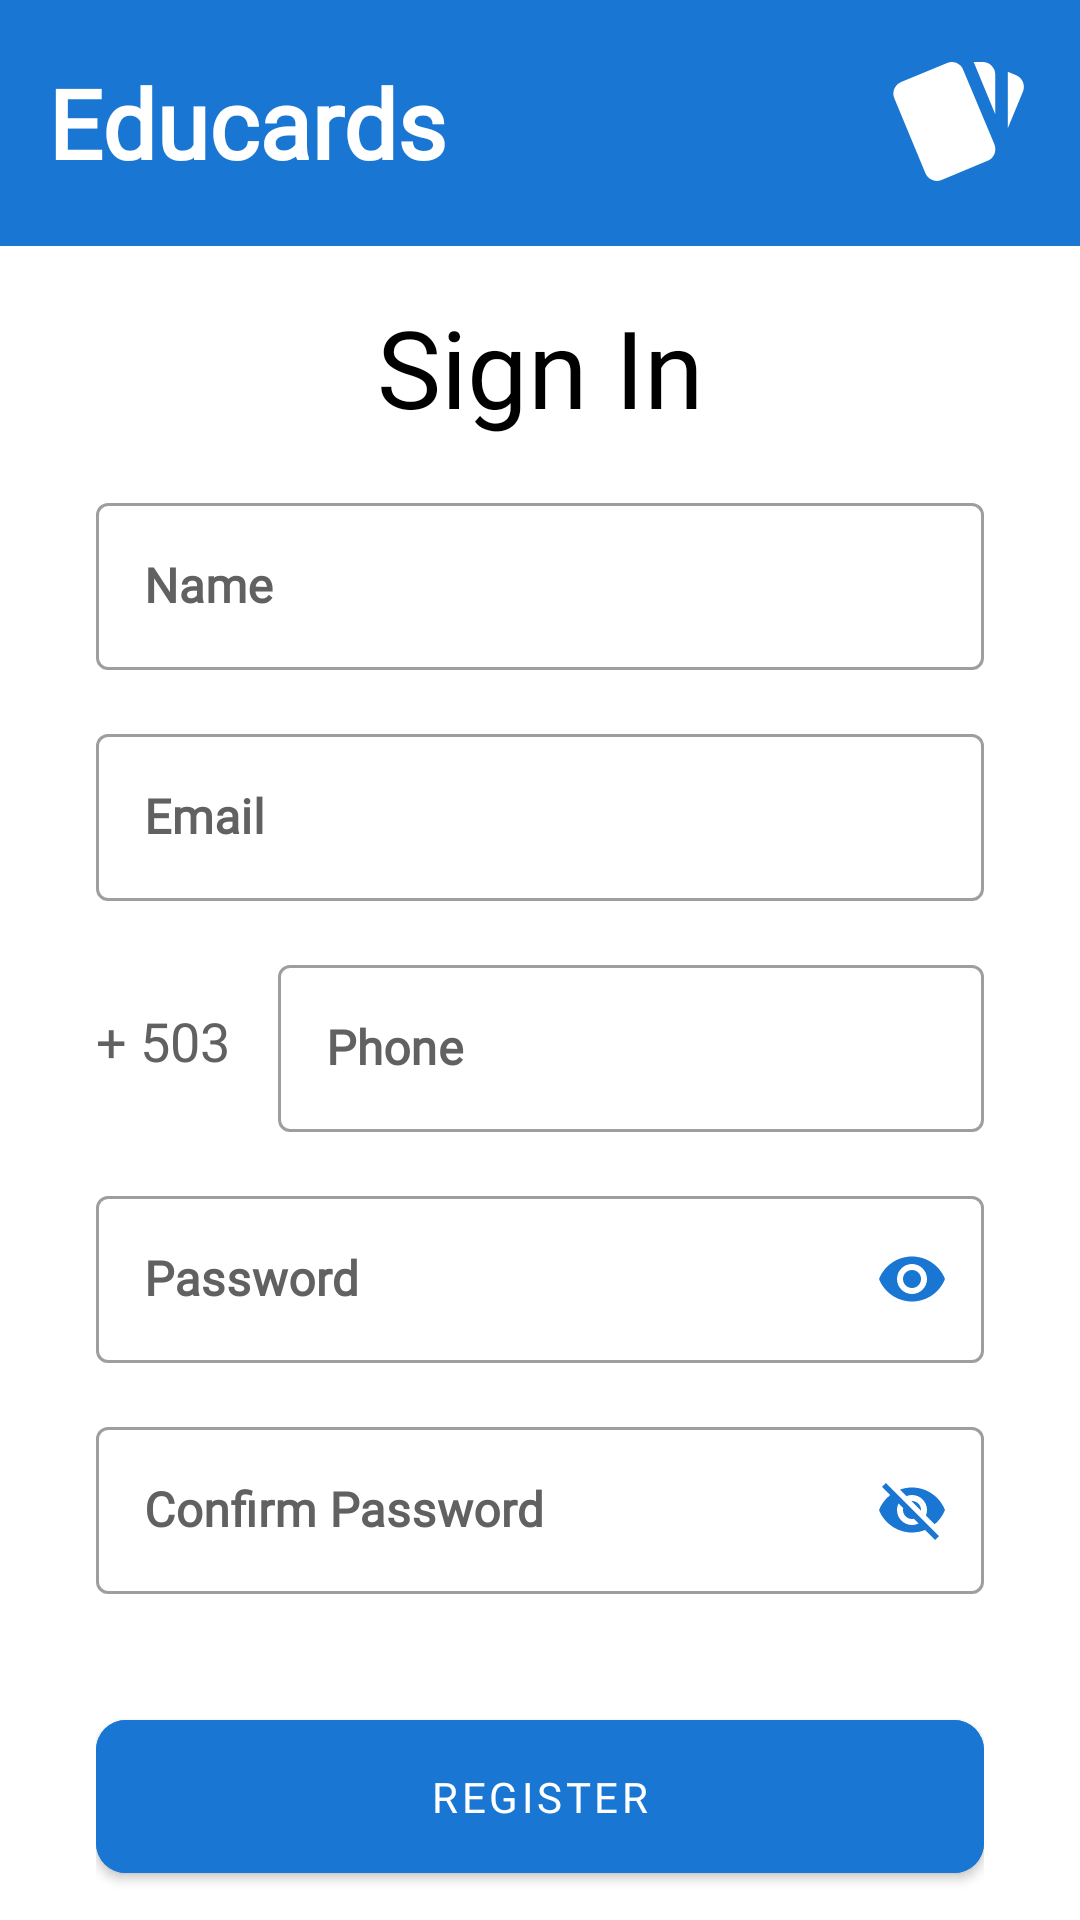

Screen size 1080 x 1920. Icon name, then its box in pixels as bbox=[x1, y1, x2, y2]:
cards: bbox=[893, 62, 1024, 181]
